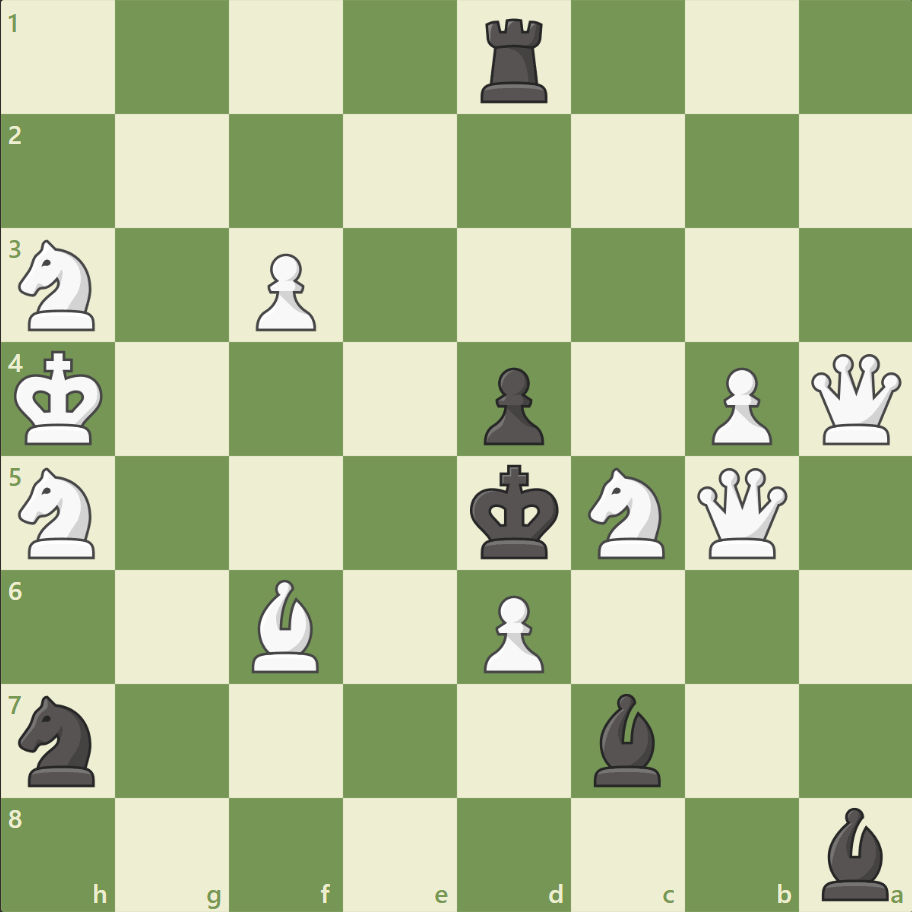B: (244, 574, 328, 676)
K: (11, 344, 111, 452)
N: (579, 461, 676, 564), (11, 461, 108, 564), (11, 234, 108, 337)
P: (474, 586, 549, 677), (701, 359, 776, 450), (247, 246, 322, 337)
Q: (805, 349, 904, 449), (691, 463, 790, 562)
b: (812, 801, 896, 904), (585, 687, 669, 790)
k: (465, 458, 565, 566)
n: (11, 688, 108, 791)
p: (474, 359, 549, 450)
r: (473, 12, 556, 109)
